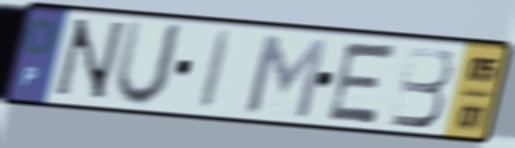B: (387, 44, 455, 131)
E: (322, 39, 402, 128)
I: (194, 27, 238, 114)
M: (243, 31, 331, 122)
N: (47, 16, 130, 104)
U: (110, 17, 188, 111)
